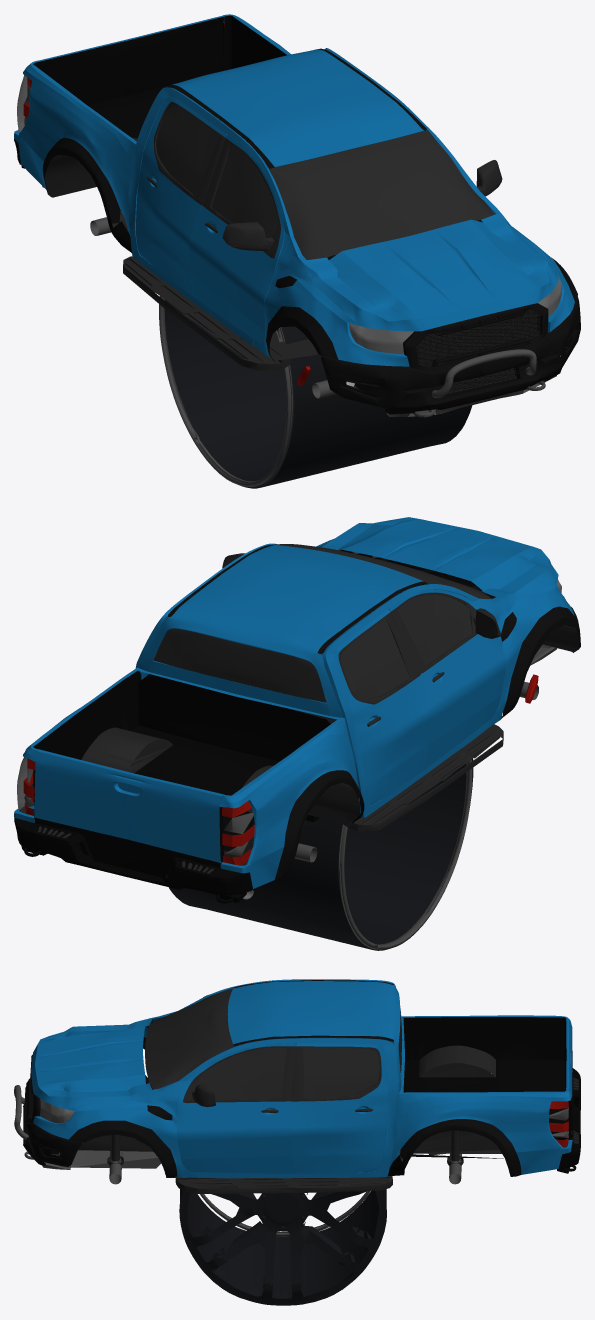
The model's file is trekker.glb.
3 views of the same model, one above another, from view 1: azimuth 30°, elevation 25°; view 2: azimuth 150°, elevation 25°; view 3: azimuth 270°, elevation 25° (orthographic). The views are drawn at different scales.
Parts seen in each view (by area): view 1: paint:0, rim:18, trim:3, glass:4, trim:5, trim:1, screen:4, trim:15, rim:7, trim:7, head_r:10; view 2: paint:0, trim:5, rim:18, glass:4, trim:1, trim:3, rim:7, trim:6, trim:2; view 3: paint:0, rim:18, trim:5, trim:1, glass:4, trim:3, screen:4, trim:16, trim:7, rim:7.
Part boxes in pixels (x1=…): paint:0: x1=14, y1=14, x2=574, y2=366; rim:18: x1=164, y1=257, x2=472, y2=488; trim:3: x1=42, y1=48, x2=580, y2=414; glass:4: x1=156, y1=88, x2=494, y2=259; trim:5: x1=14, y1=15, x2=286, y2=252; trim:1: x1=19, y1=102, x2=502, y2=371; screen:4: x1=284, y1=161, x2=469, y2=247; trim:15: x1=416, y1=310, x2=540, y2=394; rim:7: x1=159, y1=296, x2=292, y2=487; trim:7: x1=90, y1=217, x2=545, y2=417; head_r:10: x1=349, y1=329, x2=410, y2=354; paint:0: x1=14, y1=517, x2=574, y2=888; trim:5: x1=14, y1=671, x2=364, y2=903; rim:18: x1=169, y1=708, x2=473, y2=950; glass:4: x1=153, y1=544, x2=492, y2=702; trim:1: x1=19, y1=553, x2=579, y2=873; trim:3: x1=116, y1=545, x2=580, y2=879; rim:7: x1=338, y1=760, x2=472, y2=949; trim:6: x1=23, y1=674, x2=538, y2=865; trim:2: x1=24, y1=768, x2=253, y2=855; paint:0: x1=31, y1=979, x2=572, y2=1178; rim:18: x1=179, y1=1189, x2=386, y2=1305; trim:5: x1=153, y1=1017, x2=580, y2=1175; trim:1: x1=78, y1=995, x2=578, y2=1193; glass:4: x1=145, y1=988, x2=402, y2=1103; trim:3: x1=23, y1=980, x2=556, y2=1177; screen:4: x1=145, y1=1013, x2=210, y2=1074; trim:16: x1=42, y1=1150, x2=161, y2=1169; trim:7: x1=14, y1=1085, x2=461, y2=1184; rim:7: x1=200, y1=1190, x2=370, y2=1236.
Size of the model in its own units: 2.31 by 2.77 by 5.37.
